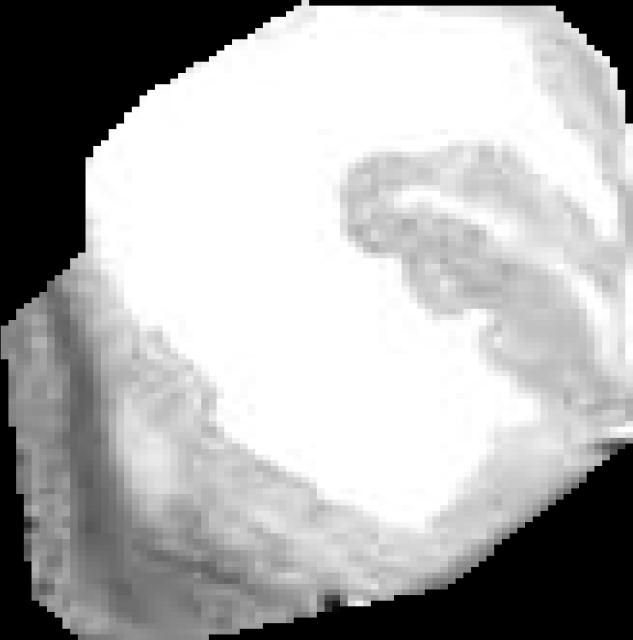tumor_moderate_chance: (1, 0, 633, 640)
